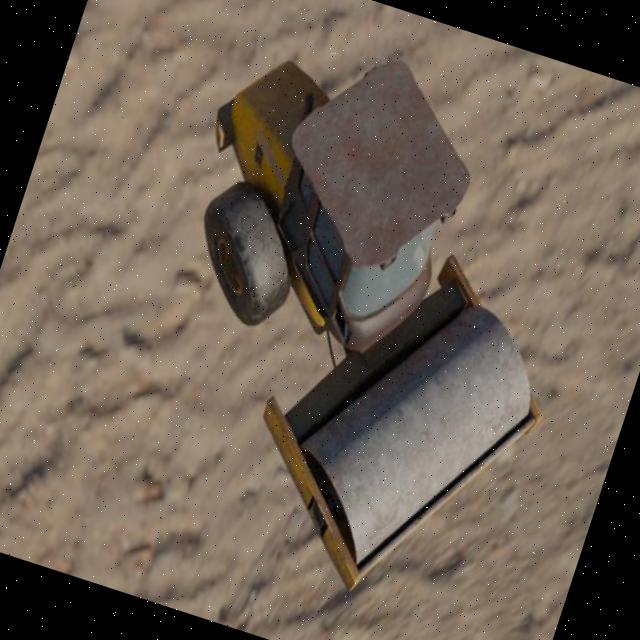Roller: (88, 10, 634, 631)
